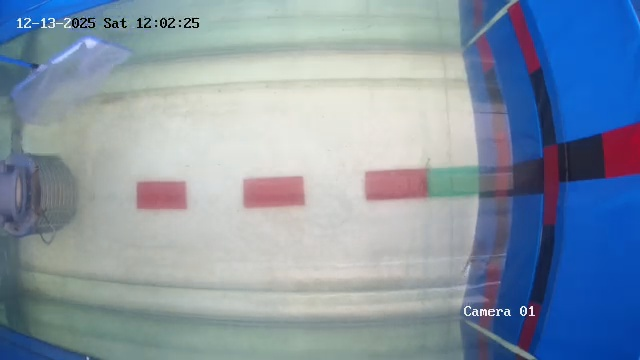fish: (460, 236, 484, 278)
